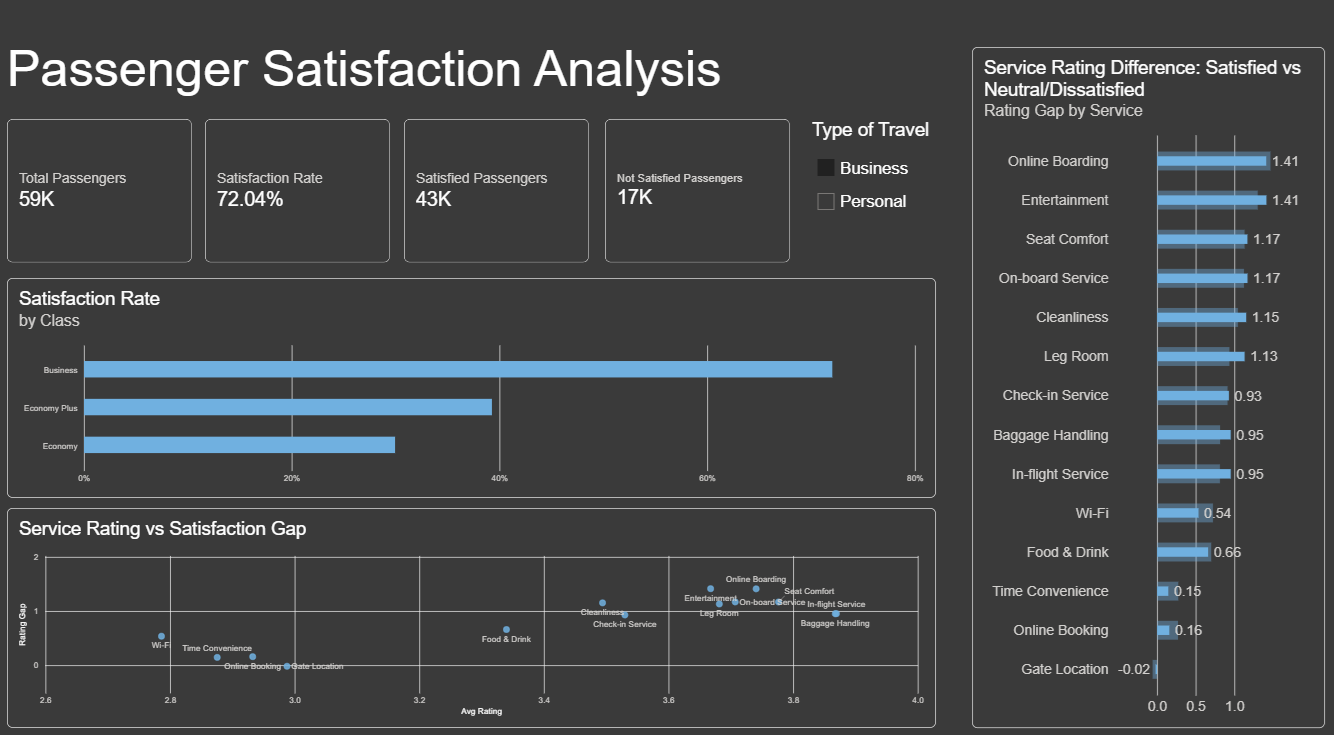

The dashboard page shown, as its layout file describes it:
{"tool":"powerbi","page":{"name":"Page 1","canvas":[1920,1080],"ordinal":0},"visuals":[{"type":"cardVisual","fields":{"Data":["airline_clean.Total Passengers"]},"box":[8.6,128.6,290,205.7],"z":0},{"type":"cardVisual","fields":{"Data":["airline_clean.Satisfied Passengers"]},"box":[298.6,128.6,295.7,205.7],"z":1000},{"type":"cardVisual","fields":{"Data":["airline_clean.Satisfaction Rate"]},"box":[891.4,128.6,297.1,205.7],"z":2000},{"type":"clusteredBarChart","fields":{"Category":["Dim_Class.Class"],"Y":["airline_clean.Satisfaction Rate"]},"box":[8.6,352.9,1386.7,329.4],"z":3000},{"type":"clusteredBarChart","title":"Service Rating Difference: Satisfied vs Neutral/Dissatisfied","fields":{"Category":["vw_Service_Satisfaction_Comparison.Service"],"Y":["vw_Service_Satisfaction_Comparison.Rating Gap"]},"box":[1394.3,87.1,525.7,992.9],"z":4000},{"type":"slicer","title":"Type of Travel","fields":{"Values":["Dim_TravelType.Type_of_Travel"]},"box":[1202.9,128.6,191.4,167.1],"z":5000},{"type":"scatterChart","title":"Service Rating vs Satisfaction Gap","fields":{"Category":["vw_Service_Satisfaction_Comparison.Service"],"X":["vw_Service_Satisfaction_Comparison.Avg Rating"],"Y":["vw_Service_Satisfaction_Comparison.Rating Gap"]},"box":[7.1,682.9,1386.7,396.9],"z":6000},{"type":"cardVisual","fields":{"Data":["airline_clean.Not Satisfied Passengers"]},"box":[594.3,128.6,297.1,205.7],"z":7000}]}

Visuals, with their boxes in screenshot pixels (x1, y1, x2, y2), scaled from the page's 1920x1080 canvas onto the 1334x735 screenshot:
cardVisual - airline_clean.Total Passengers: BBox(6, 88, 207, 228)
cardVisual - airline_clean.Satisfied Passengers: BBox(207, 88, 413, 228)
cardVisual - airline_clean.Satisfaction Rate: BBox(619, 88, 826, 228)
clusteredBarChart - Dim_Class.Class x airline_clean.Satisfaction Rate: BBox(6, 240, 969, 464)
"Service Rating Difference: Satisfied vs Neutral/Dissatisfied" clusteredBarChart: BBox(969, 59, 1333, 734)
"Type of Travel" slicer: BBox(836, 88, 969, 201)
"Service Rating vs Satisfaction Gap" scatterChart: BBox(5, 465, 968, 734)
cardVisual - airline_clean.Not Satisfied Passengers: BBox(413, 88, 619, 228)
